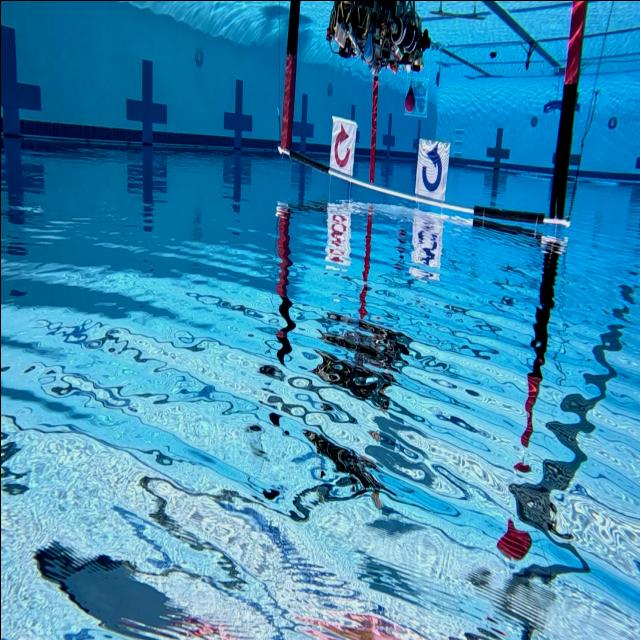blue_side: (413, 137, 450, 200)
red_side: (327, 113, 356, 176)
